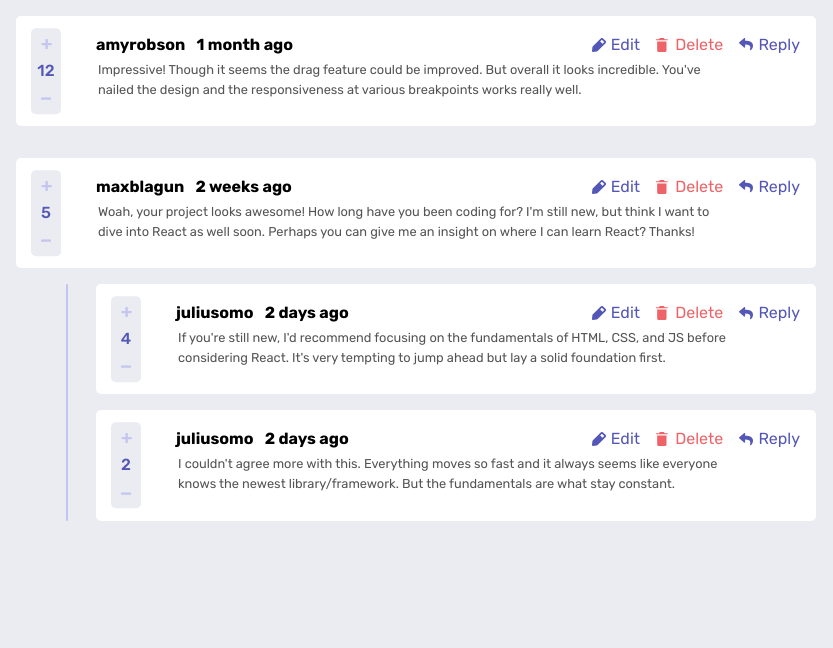
Test case: should find reply button and add new reply comment to list on click
Step 1. Click the button with test id "reply-comment-btn-0" → {"x": 770, "y": 45}, box [739,32,800,58]
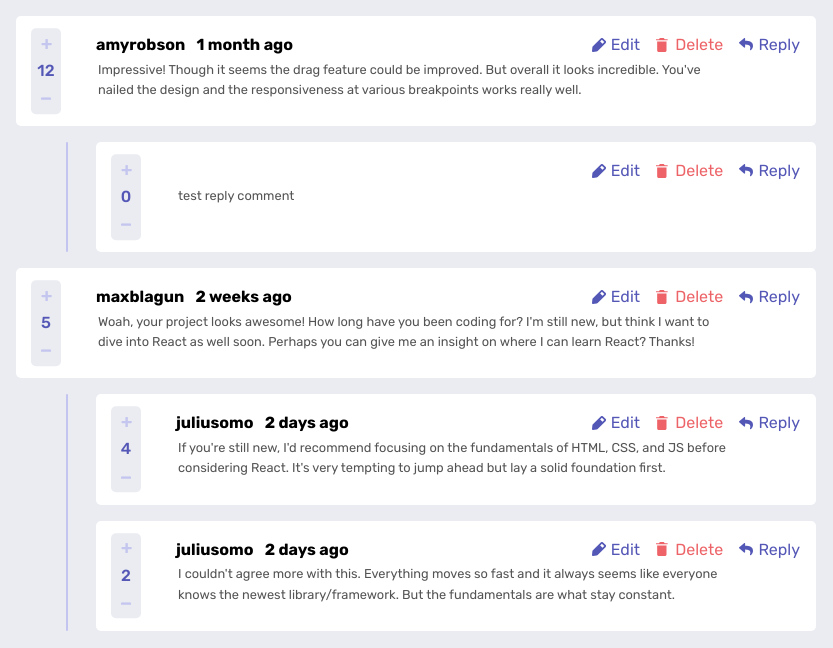
expect the 2nd text box "test reply comment" is shown: met, box [176,184,738,229]
